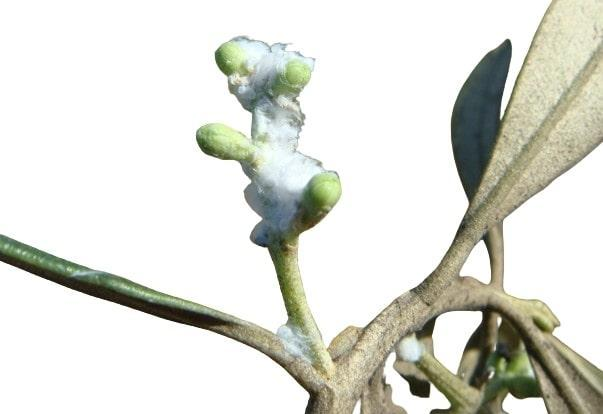Psyllid: (194, 37, 348, 255), (266, 309, 324, 368), (392, 326, 428, 369)
